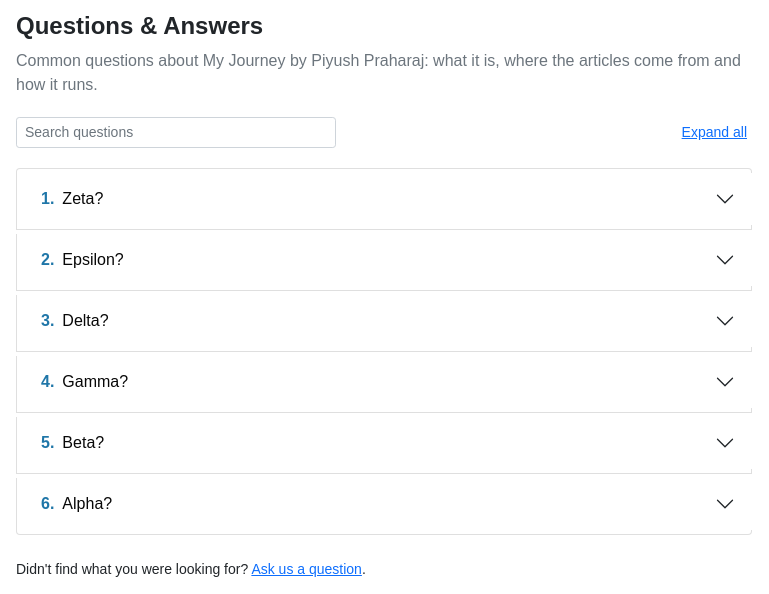
InterviewQA › searches questions and answers once there are enough of them
Type "answer to gamma" into the search field labelled "Search questions". click: point(176, 132)
box: [16, 117, 336, 148]
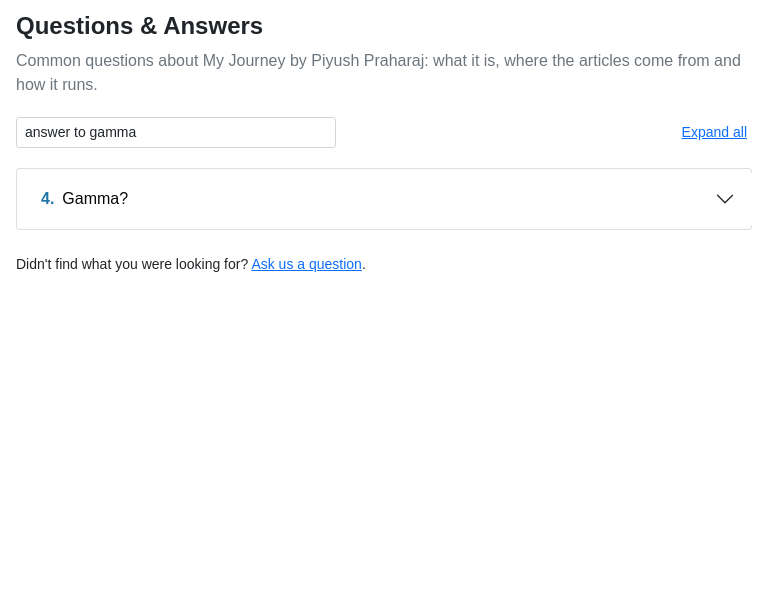
Replace the text in the search field named "Search questions" with "nothing like this". click: point(176, 132)
box: [16, 117, 336, 148]
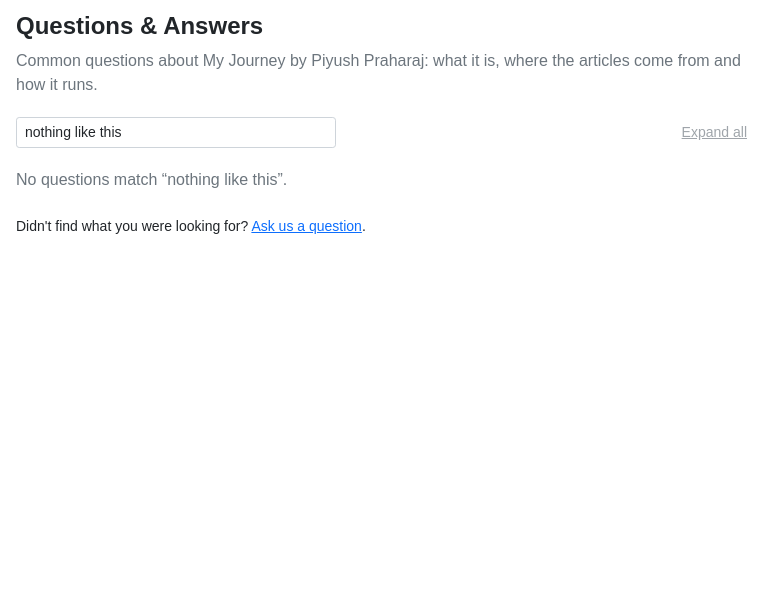
Check: the text "No questions match “nothing like this”." is shown, box [16, 171, 287, 188]
